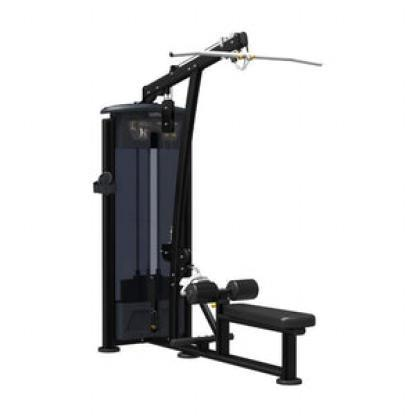Lat Pull Down: (85, 23, 371, 394)
